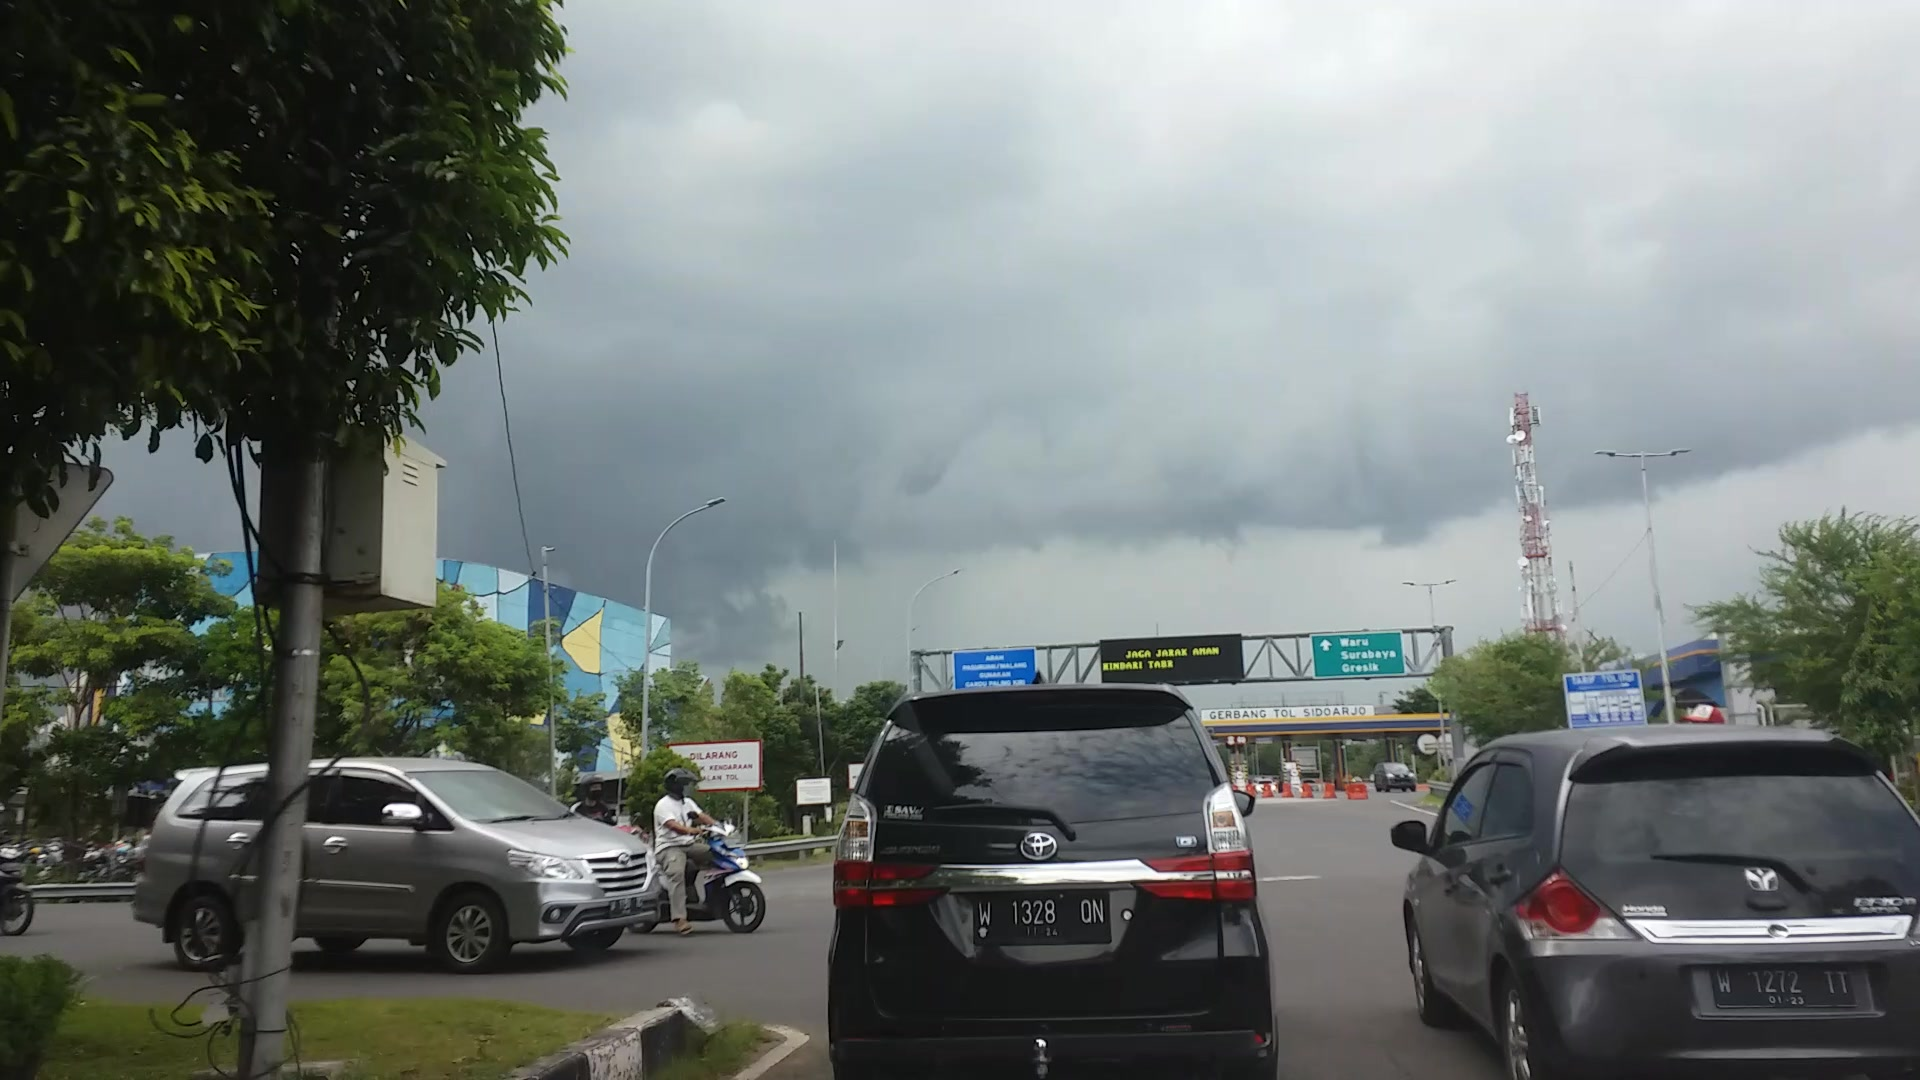plate_positive: (973, 891, 1112, 944), (1710, 965, 1855, 1006)
